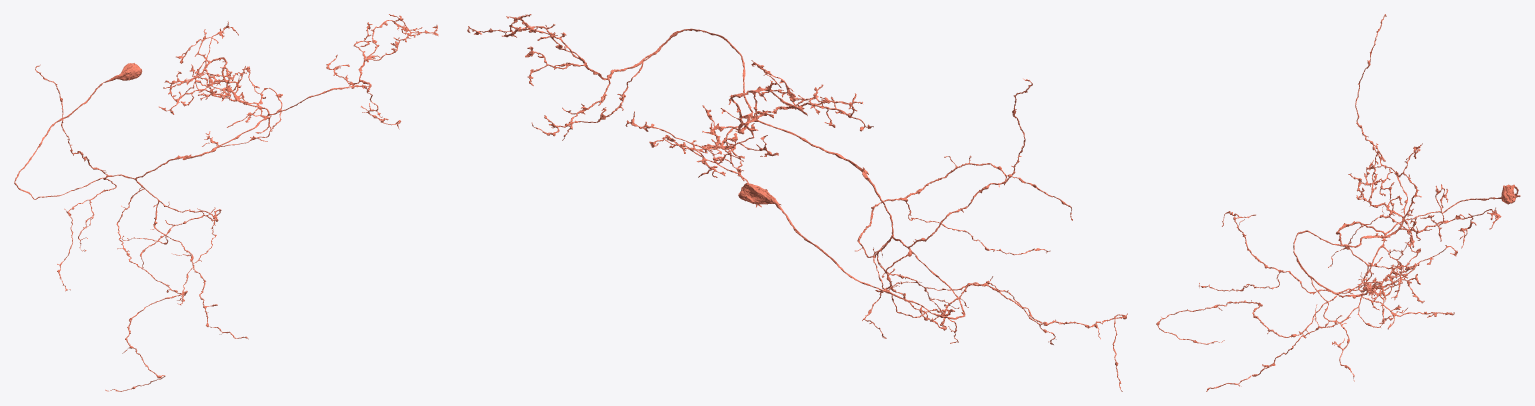
File: VFB_jrmc1i21.glb
3 views of the same model, side by side, from view 1: azimuth 30°, elevation 25°; view 2: azimuth 150°, elevation 25°; view 3: azimuth 270°, elevation 25° (orthographic). The views are drawn at different scales.
Parts seen in each view (by area): view 1: VFB_jrmc1i21; view 2: VFB_jrmc1i21; view 3: VFB_jrmc1i21.
Part boxes in pixels (left/top/right/bottom): VFB_jrmc1i21: left=14, top=14, right=438, bottom=391; VFB_jrmc1i21: left=467, top=14, right=1127, bottom=391; VFB_jrmc1i21: left=1156, top=14, right=1520, bottom=391.
Bounding box in the file's own units: 0.09 × 0.0586 × 0.0591.
